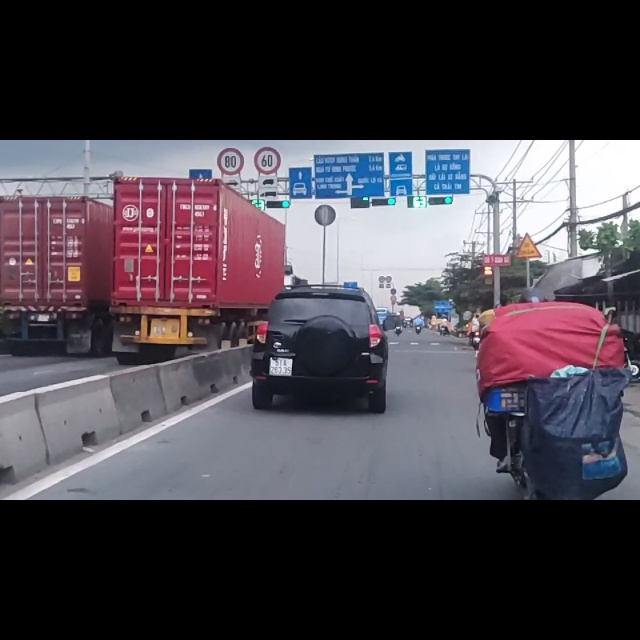bien_cam: (513, 164, 542, 212), (217, 14, 245, 63), (254, 13, 281, 62)
